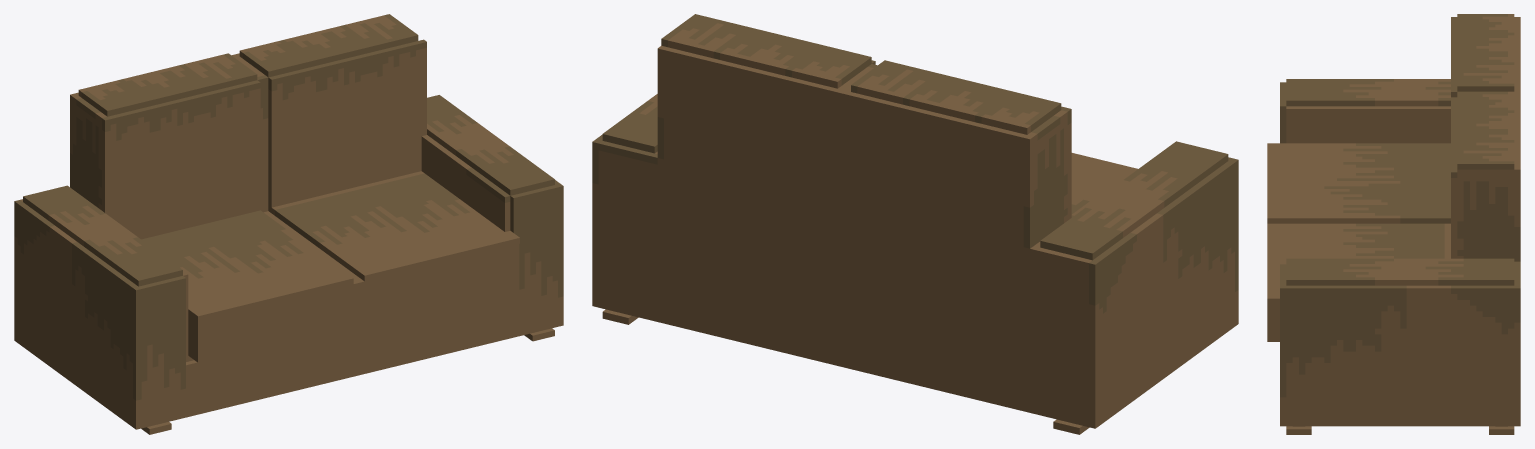
The model's file is Decor-32.obj.
3 renders of one model, left to right at view 1: azimuth 30°, elevation 25°; view 2: azimuth 150°, elevation 25°; view 3: azimuth 270°, elevation 25°, orthographic. The views are drawn at different scales.
Bounding box in the file's own units: 7.7 × 4.3 × 4.
Materials: 1 (1 with a texture image).
